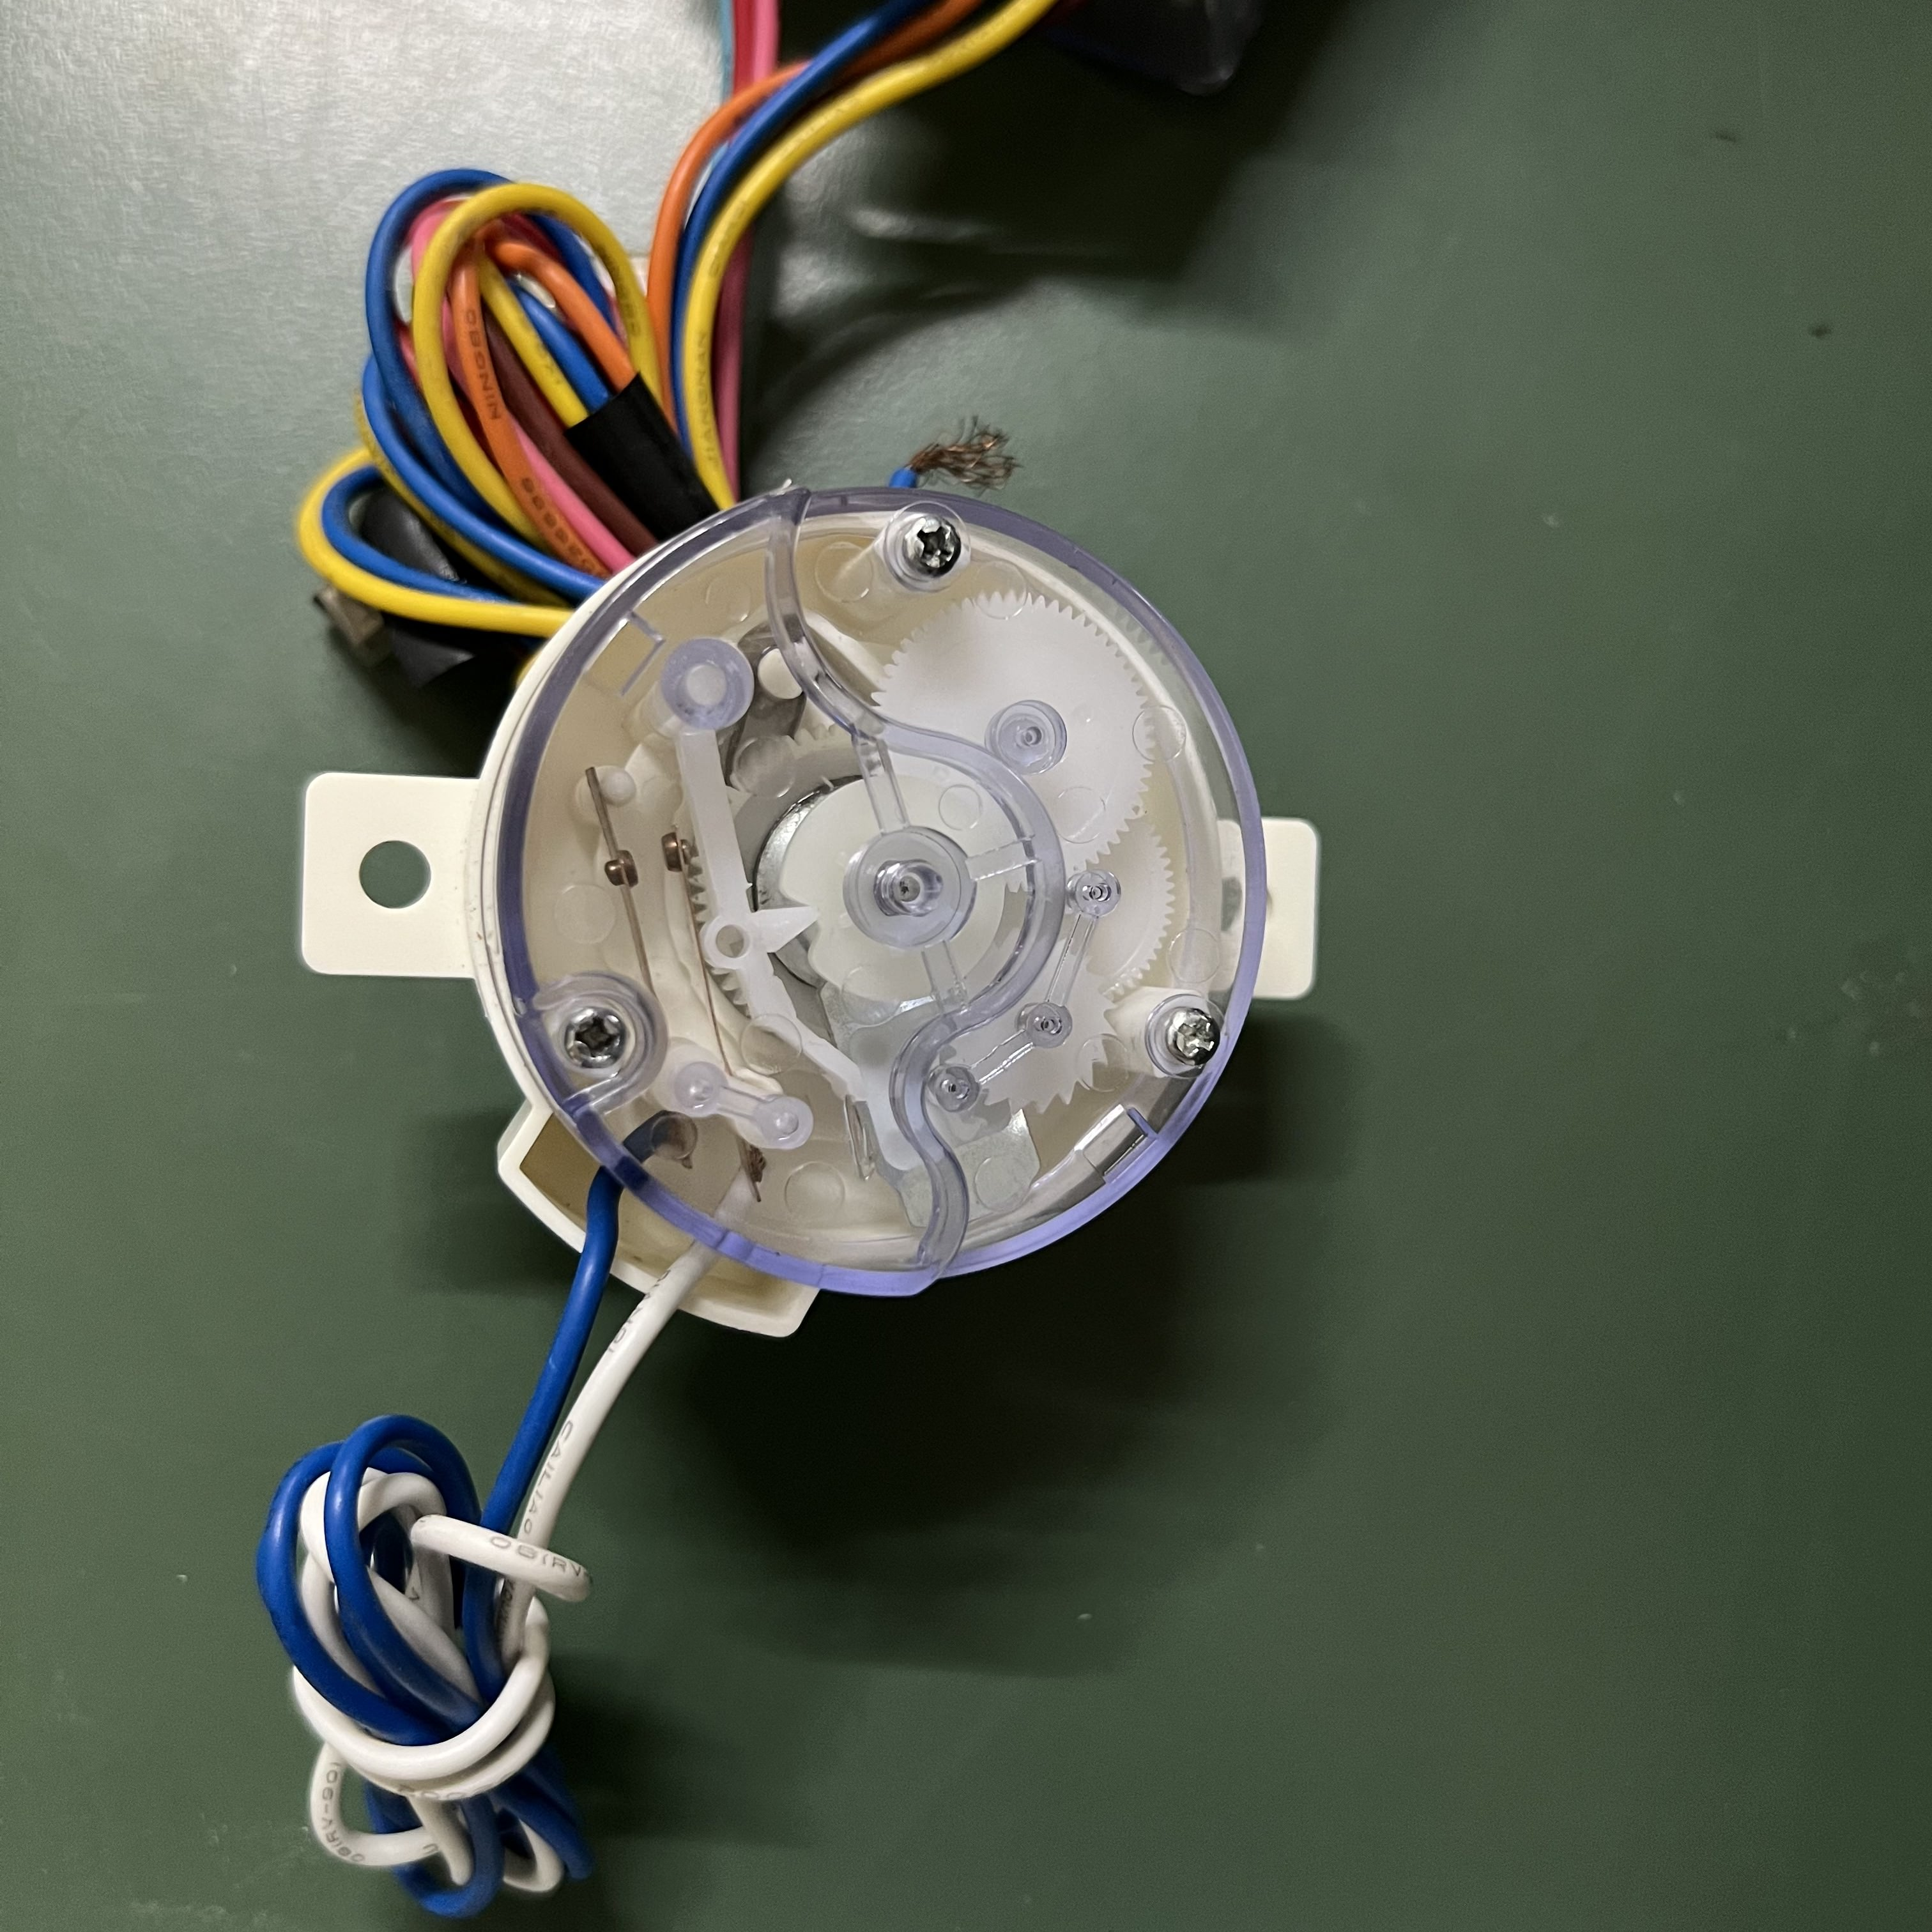circle_timer: (285, 488, 1343, 1341)
